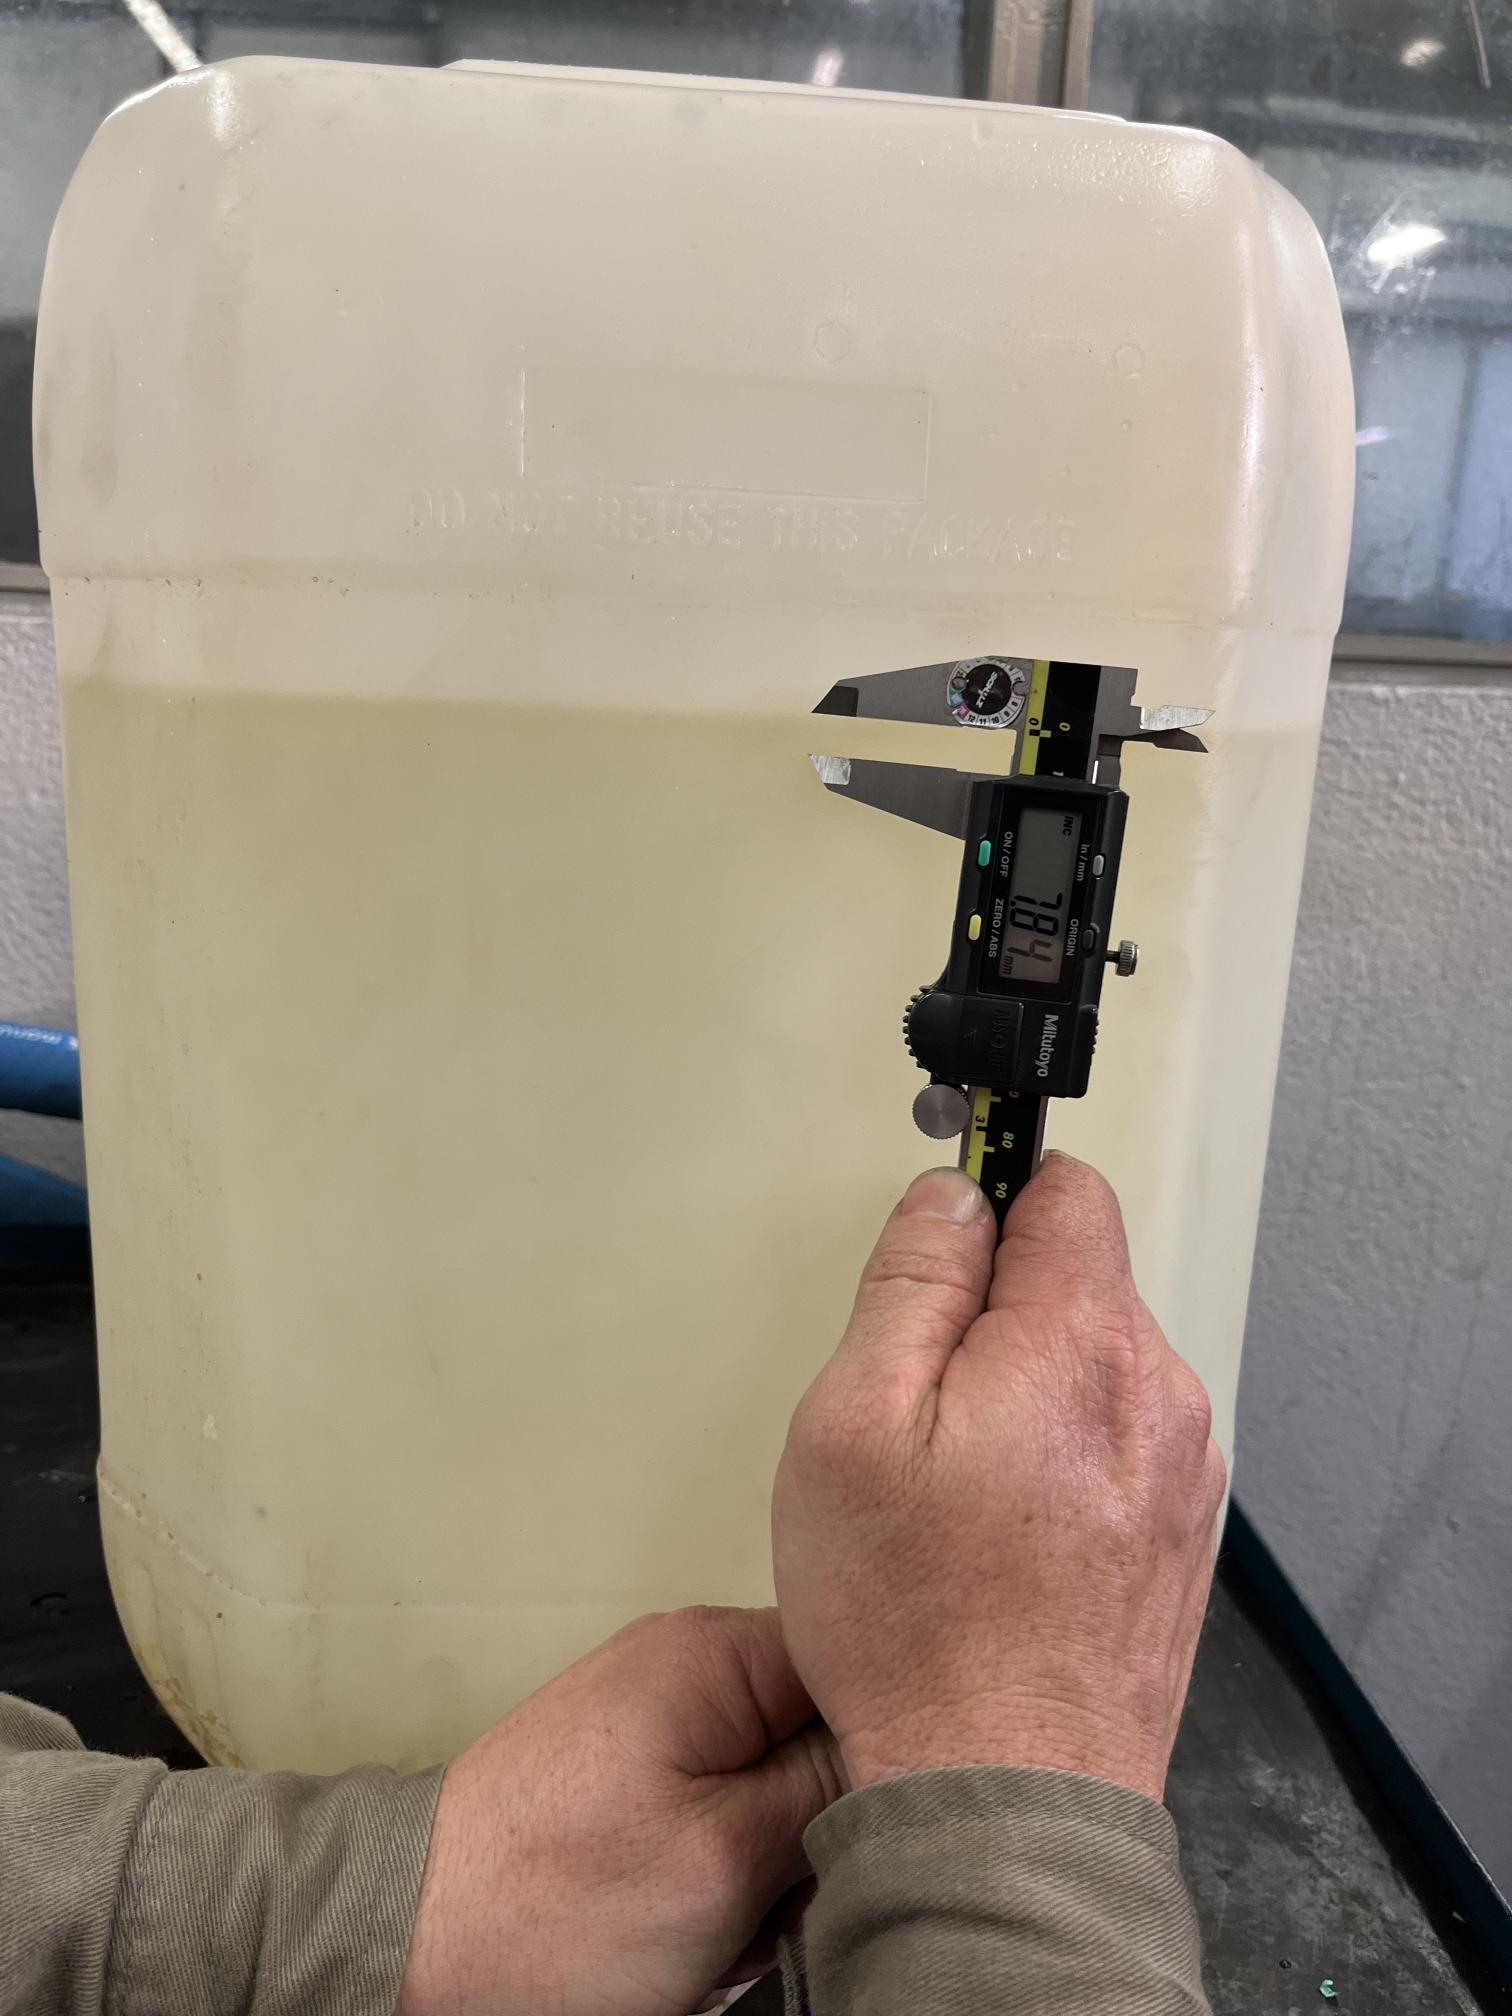Galao: (70, 79, 1380, 1884)
